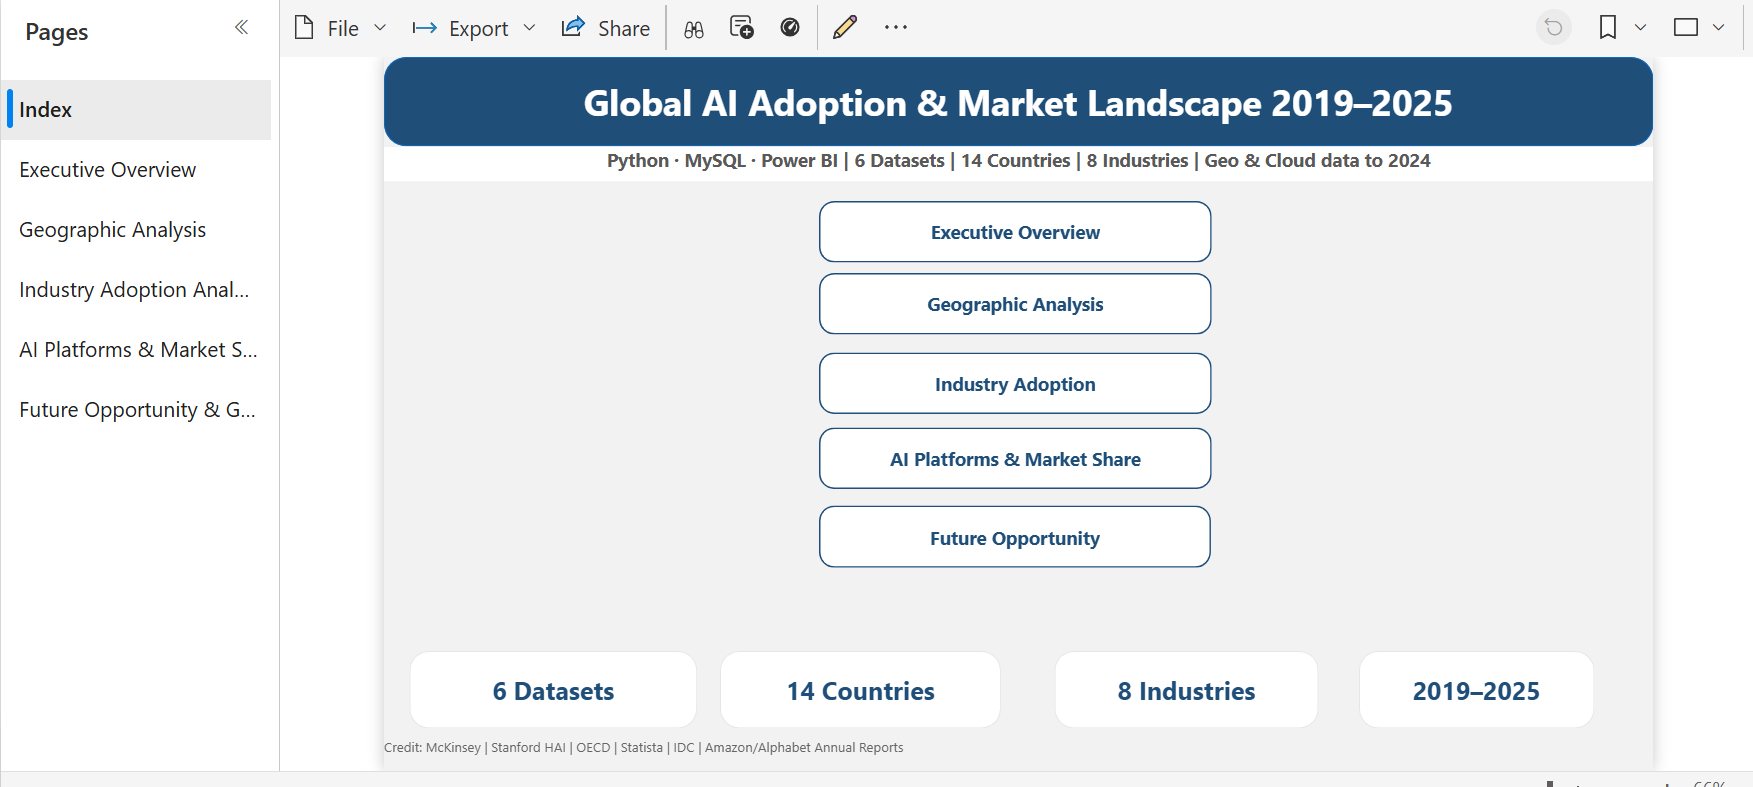

Layout of this report page (visuals, bound fields, positions):
{"tool":"powerbi","page":{"name":"Index","canvas":[1280,720],"ordinal":0},"visuals":[{"type":"shape","box":[0,0,1280,90],"z":0},{"type":"textbox","title":"Python · MySQL · Power BI  |  6 Datasets  |  14 Countries  |  8 Industries | Geo & Cloud data to 2024","box":[0,90,1280,34],"z":2000},{"type":"shape","title":"Executive Overview","box":[439,144.7,396.1,62],"z":3000},{"type":"shape","box":[439,217.9,396.1,62],"z":4000},{"type":"shape","box":[439,297.4,396.1,62],"z":5000},{"type":"shape","box":[439,373.8,396.1,62],"z":6000},{"type":"shape","box":[439.3,452.9,395.2,62.8],"z":8000},{"type":"shape","box":[25.4,598.7,290,78],"z":9000},{"type":"shape","box":[339.2,598.7,283.3,78],"z":11000},{"type":"shape","box":[676.8,598.7,266.3,78],"z":12000},{"type":"shape","box":[983.8,598.7,237.5,78],"z":13000},{"type":"shape","title":"Credits","box":[0,679.2,1280.4,31.8],"z":14000}]}

Visuals, with their boxes on the page's 1280x720 design canvas (x1, y1, x2, y2). These are canvas units, not pixel positions in the 1753x787 screenshot, which may show the page scaled, cropped or inside an application window:
shape: rect(0, 0, 1280, 90)
"Python · MySQL · Power BI  |  6 Datasets  |  14 Countries  |  8 Industries | Geo & Cloud data to 2024" textbox: rect(0, 90, 1280, 124)
"Executive Overview" shape: rect(439, 145, 835, 207)
shape: rect(439, 218, 835, 280)
shape: rect(439, 297, 835, 359)
shape: rect(439, 374, 835, 436)
shape: rect(439, 453, 834, 516)
shape: rect(25, 599, 315, 677)
shape: rect(339, 599, 622, 677)
shape: rect(677, 599, 943, 677)
shape: rect(984, 599, 1221, 677)
"Credits" shape: rect(0, 679, 1280, 711)
